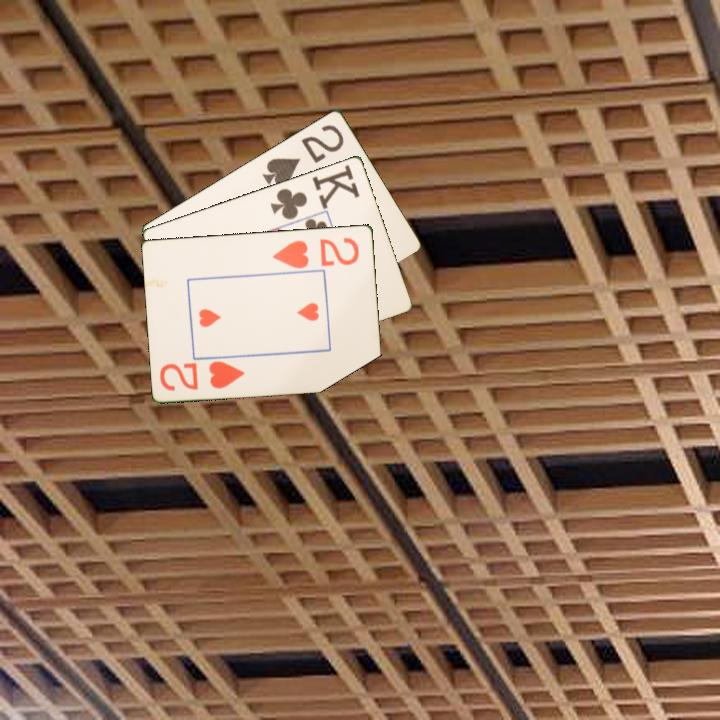2h: (269, 233, 362, 271), (156, 357, 248, 394)
2s: (259, 121, 347, 189)
Kc: (267, 161, 363, 222)
